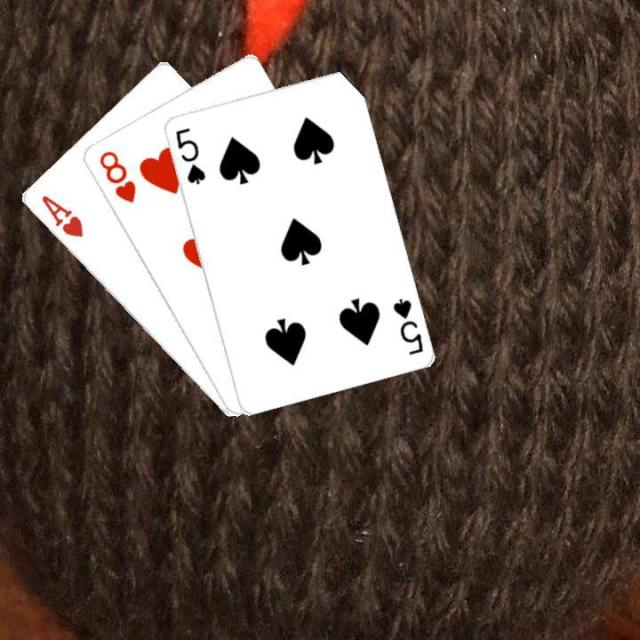5S: (388, 294, 425, 356), (171, 124, 207, 186)
8H: (94, 147, 138, 205)
AH: (36, 191, 86, 240)
